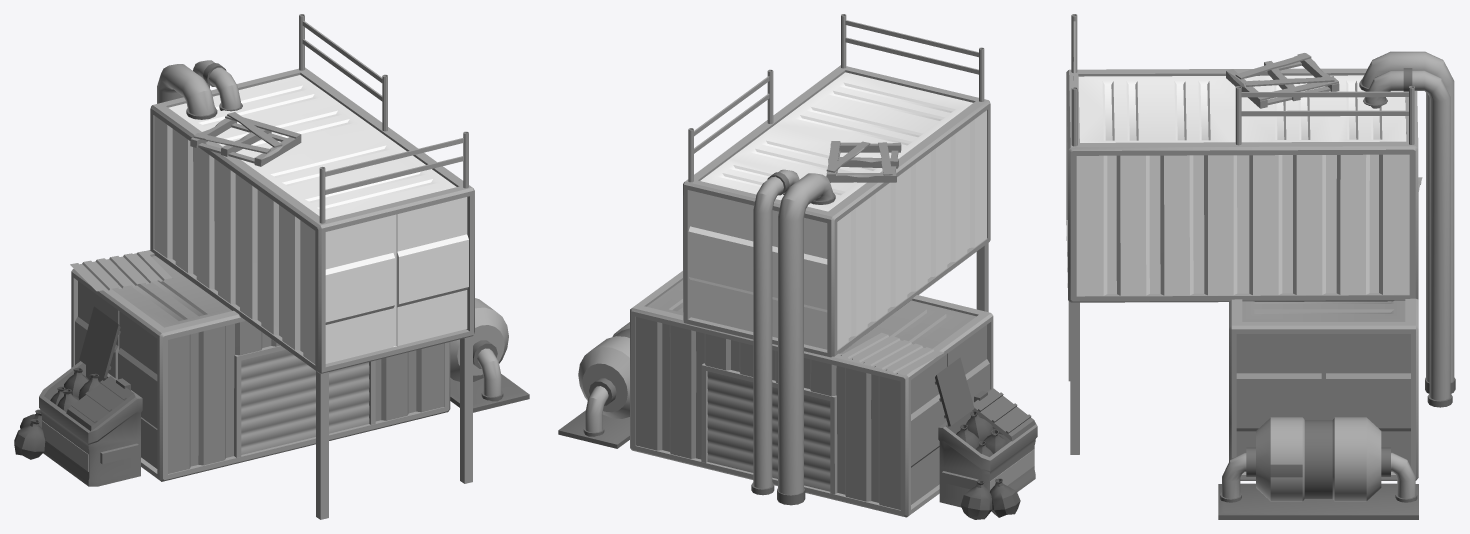
The model's file is scaffold_yard.glb.
3 views of the same model, side by side, from view 1: azimuth 30°, elevation 25°; view 2: azimuth 150°, elevation 25°; view 3: azimuth 270°, elevation 25° (orthographic). The views are drawn at different scales.
Parts seen in each view (by area): view 1: Body; view 2: Body; view 3: Body.
Boxes of the visible parts, x1,y1,x2,y2 form: Body: (14,14,529,519); Body: (558,14,1037,519); Body: (1066,14,1455,519).
Size of the model in its own units: 20 by 14.75 by 14.27.
Materials: 2 (1 with a texture image).
